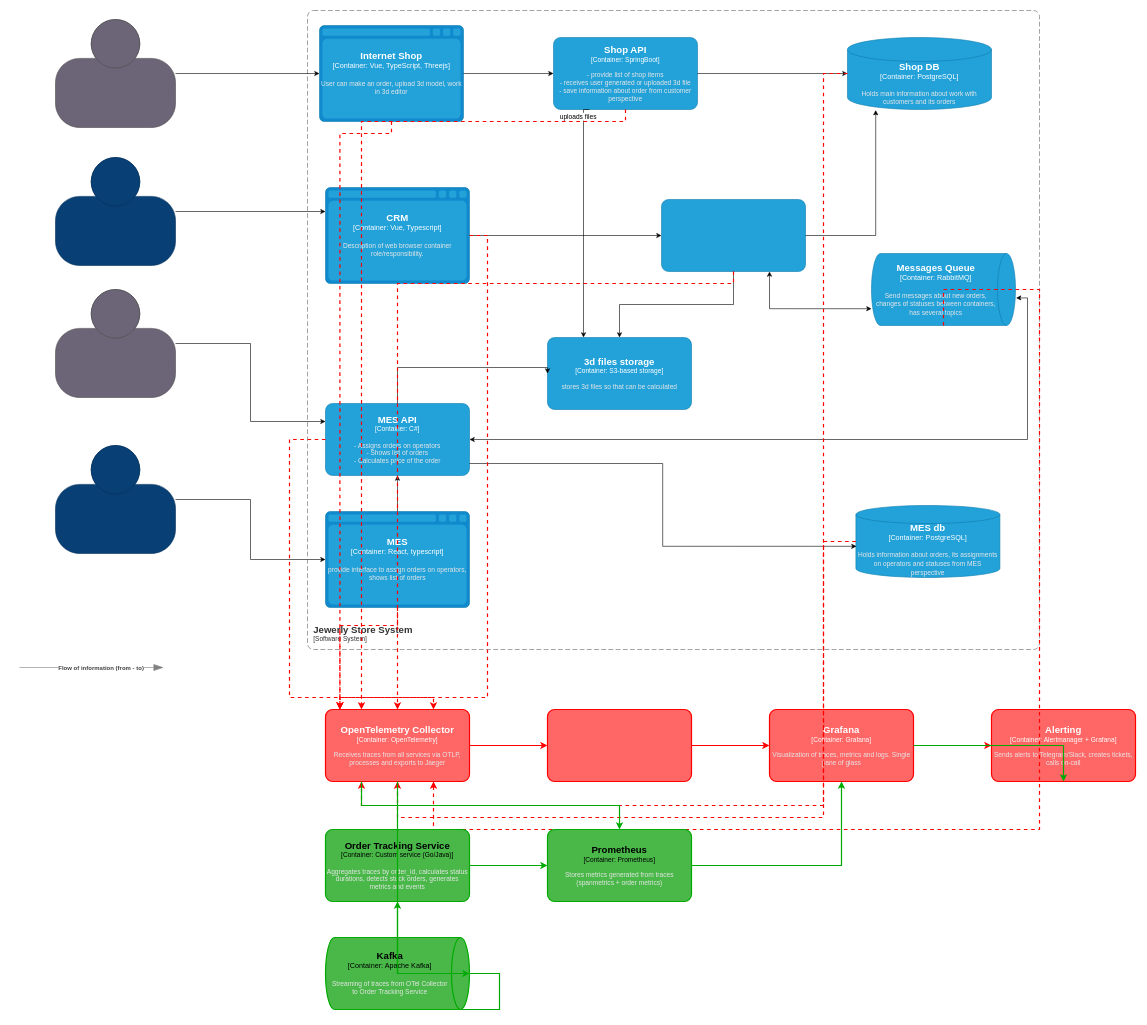
Some shapes in this 1147 by 1025 pixel diagram are drawn without their labels. The shapes that lost their labels are listed below. From the top down, each one's centre as x and y in pixels, then its label:
the point at 115,73: Customer [Person] Description of external person.
the point at 115,211: Seller [Person] Operates with order, confirms manufacturing for the user
the point at 733,235: CRM API [Container: SpringBoot] Description of container role/responsibility.
the point at 115,343: API user [Person] Description of external person.
the point at 115,499: Operator [Person] Takes order in work, manufactures jewerly
the point at 619,745: Jaeger [Container: Jaeger] Stores traces, provides UI for search and analysis
